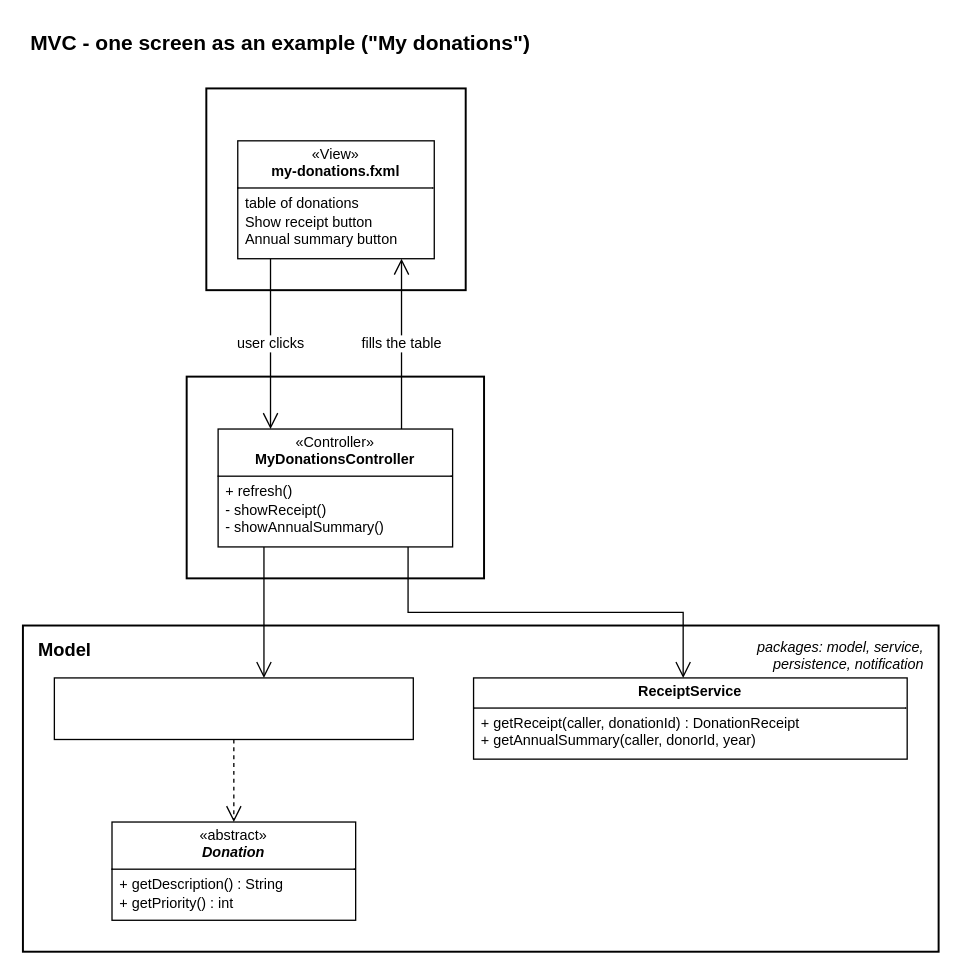
This 963x975 diagram has some shape labels left out. Here are the shapes that lost their labels. From the top down, the box of each, then its label:
(205, 87, 466, 291): View (FXML)
(185, 375, 484, 579): Controller (package controller)
(53, 677, 413, 739): DonationService + getMyDonations(caller) : List<Donation>
